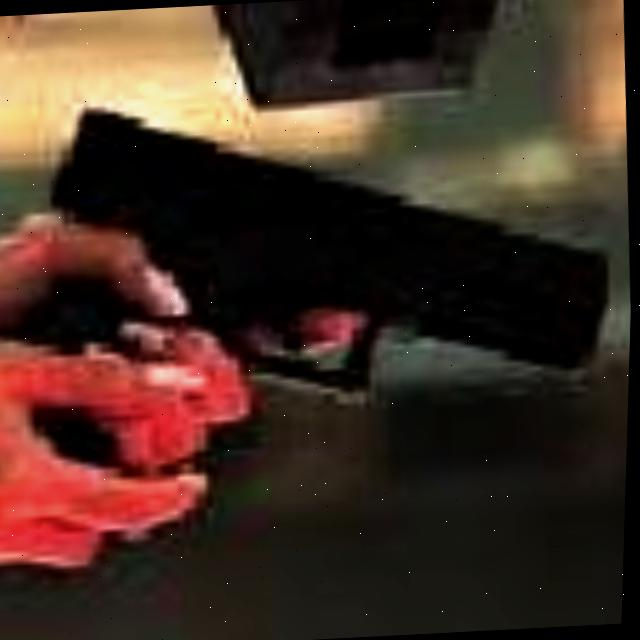pistol: (0, 83, 638, 559), (0, 104, 610, 571)
